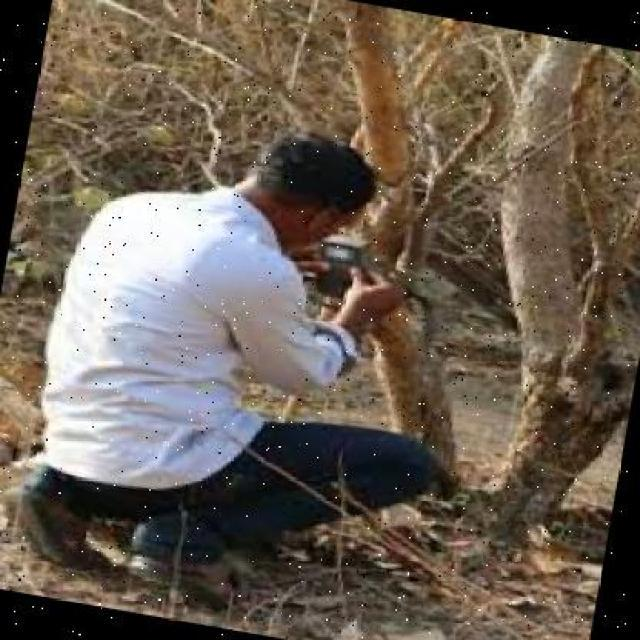poacher: (12, 106, 477, 602)
